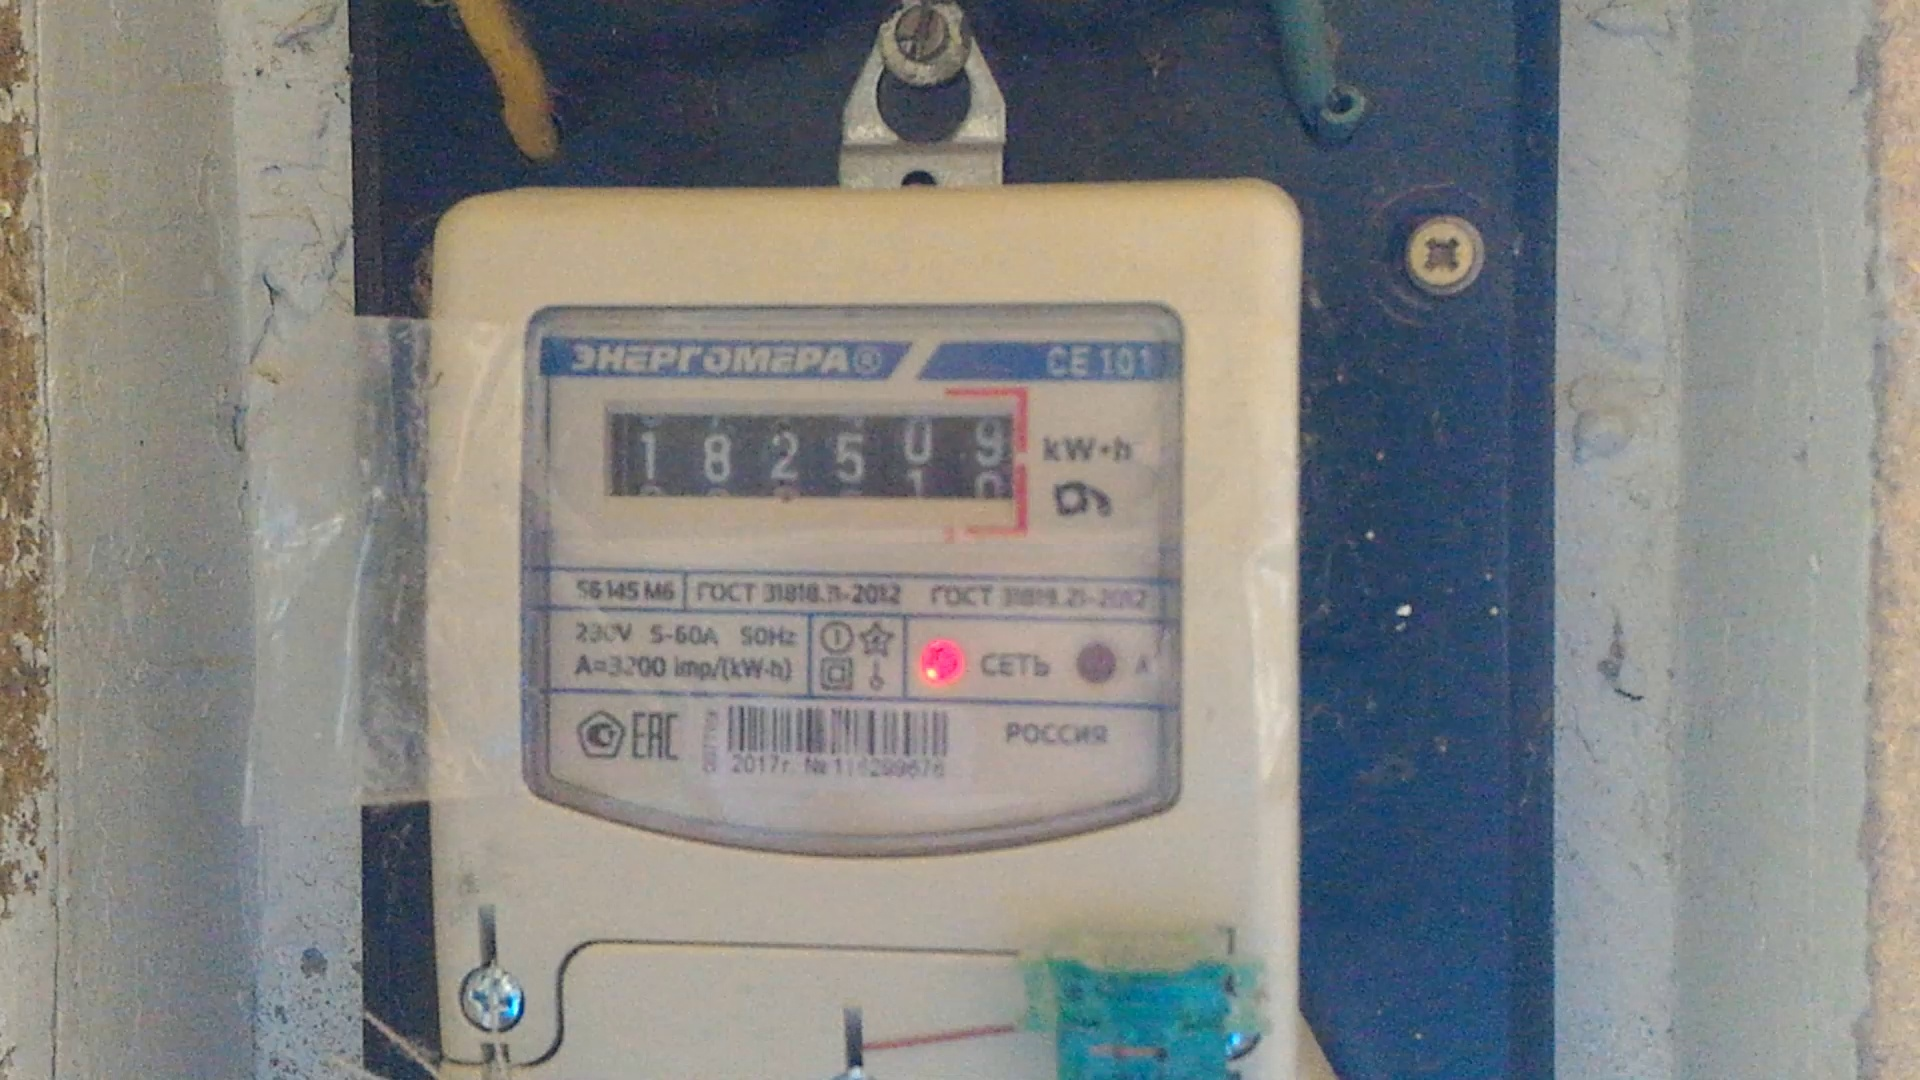counter: (425, 189, 1298, 1076)
counter_screen: (608, 409, 1017, 502)
